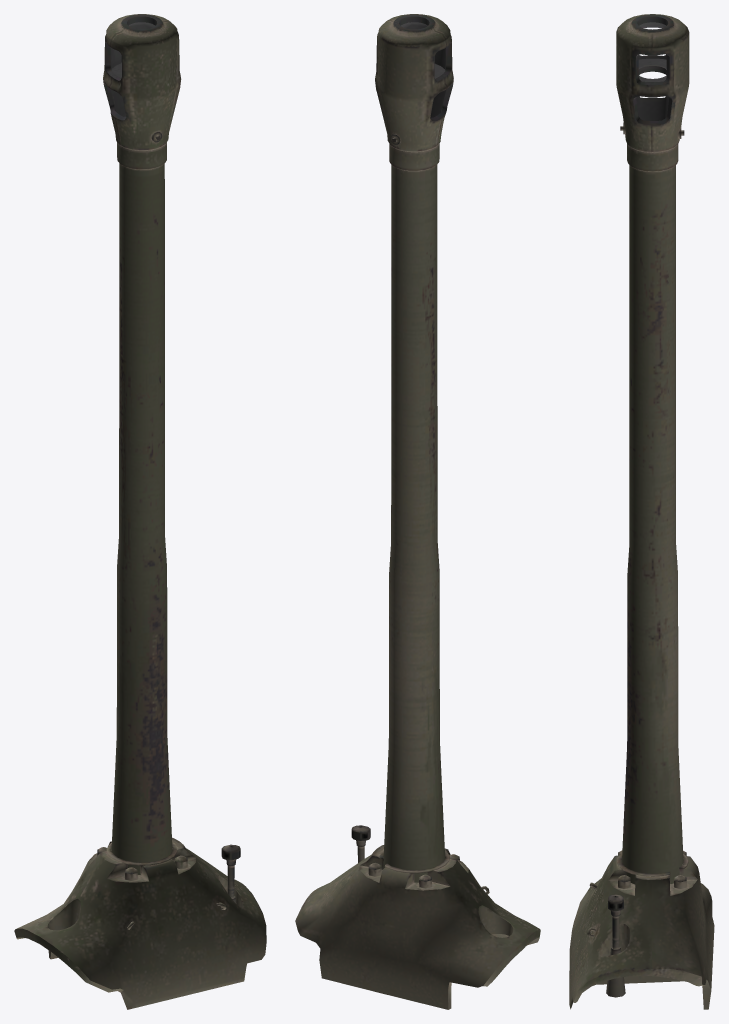
File: Gun_01.glb
The picture shows the model from 3 angles, left to right: view 1: azimuth 30°, elevation 25°; view 2: azimuth 150°, elevation 25°; view 3: azimuth 270°, elevation 25°; orthographic projection.
Parts seen in each view (by area): view 1: set_0_group_0; view 2: set_0_group_0; view 3: set_0_group_0.
Boxes of the visible parts, x1=… form: set_0_group_0: x1=14, y1=14, x2=266, y2=1009; set_0_group_0: x1=295, y1=14, x2=540, y2=1009; set_0_group_0: x1=569, y1=14, x2=714, y2=1009.
Size of the model in its own units: 0.9833 by 4.29 by 0.5895.
1 material, 1 textured.
